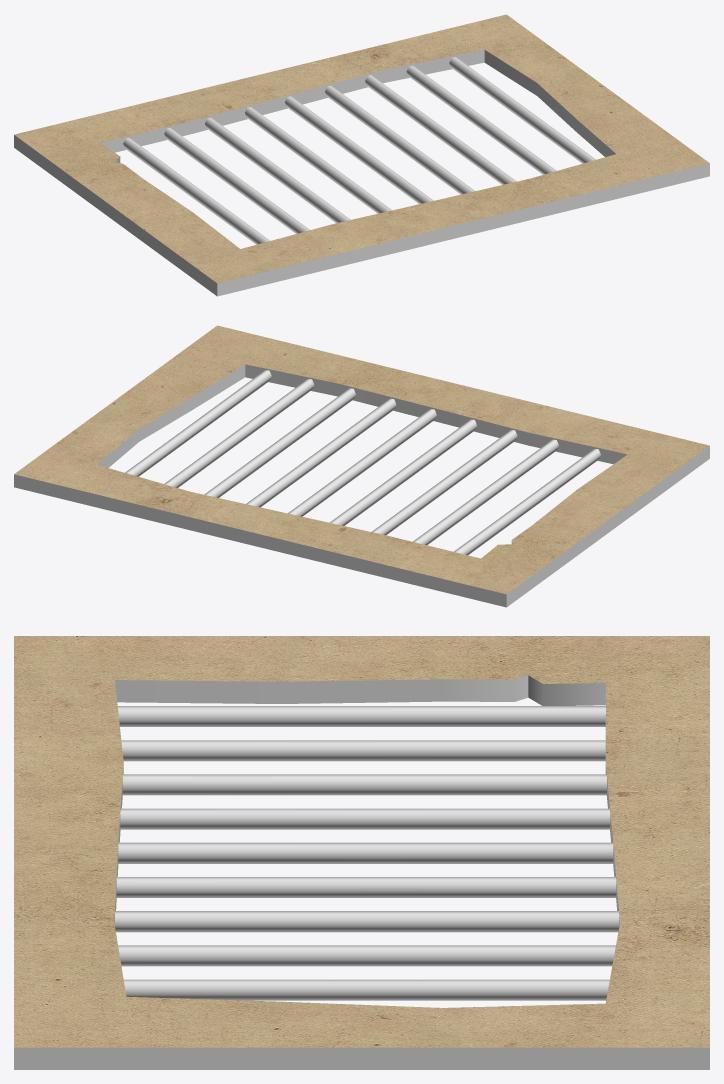
Rendered from Cardboard_Grid_01.fbx.
3 views of the same model, one above another, from view 1: azimuth 30°, elevation 25°; view 2: azimuth 150°, elevation 25°; view 3: azimuth 270°, elevation 25° (orthographic). The views are drawn at different scales.
Visible parts, largest first — view 1: Cardboard_Grid_01, Cardboard_Grid_Toothpick_01; view 2: Cardboard_Grid_01, Cardboard_Grid_Toothpick_01; view 3: Cardboard_Grid_01, Cardboard_Grid_Toothpick_01.
Part boxes in pixels (bbox=[...]): Cardboard_Grid_01: bbox=[14, 14, 709, 296]; Cardboard_Grid_Toothpick_01: bbox=[123, 57, 595, 244]; Cardboard_Grid_01: bbox=[14, 325, 709, 607]; Cardboard_Grid_Toothpick_01: bbox=[125, 370, 600, 555]; Cardboard_Grid_01: bbox=[14, 636, 709, 1069]; Cardboard_Grid_Toothpick_01: bbox=[114, 706, 619, 1000].
Bounding box in the file's own units: 209 × 5.31 × 150.
